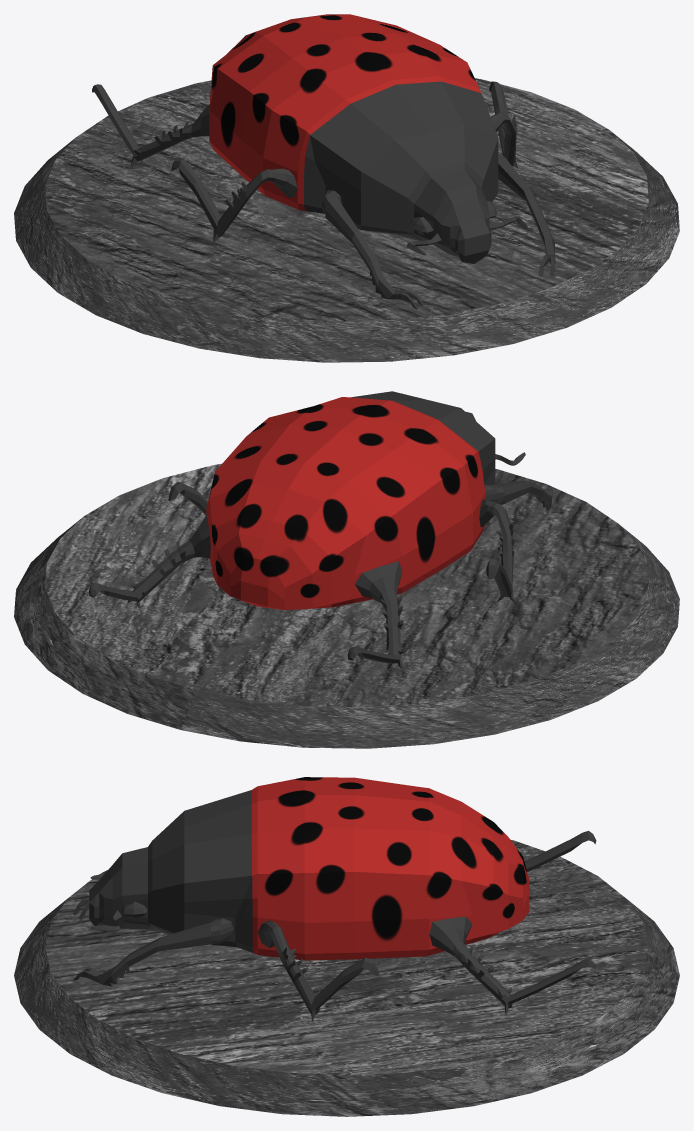
Rendered from scarabModelo.glb.
3 renders of one model, top to bottom at view 1: azimuth 30°, elevation 25°; view 2: azimuth 150°, elevation 25°; view 3: azimuth 270°, elevation 25°, orthographic.
Parts seen in each view (by area): view 1: Cube.001; view 2: Cube.001; view 3: Cube.001.
Boxes of the visible parts, x1,y1,x2,y2 form: Cube.001: (14,14,679,362); Cube.001: (14,391,679,748); Cube.001: (14,777,679,1116).
Bounding box in the file's own units: 2.45 × 0.7325 × 2.44.
Materials: 4 (2 with a texture image).
